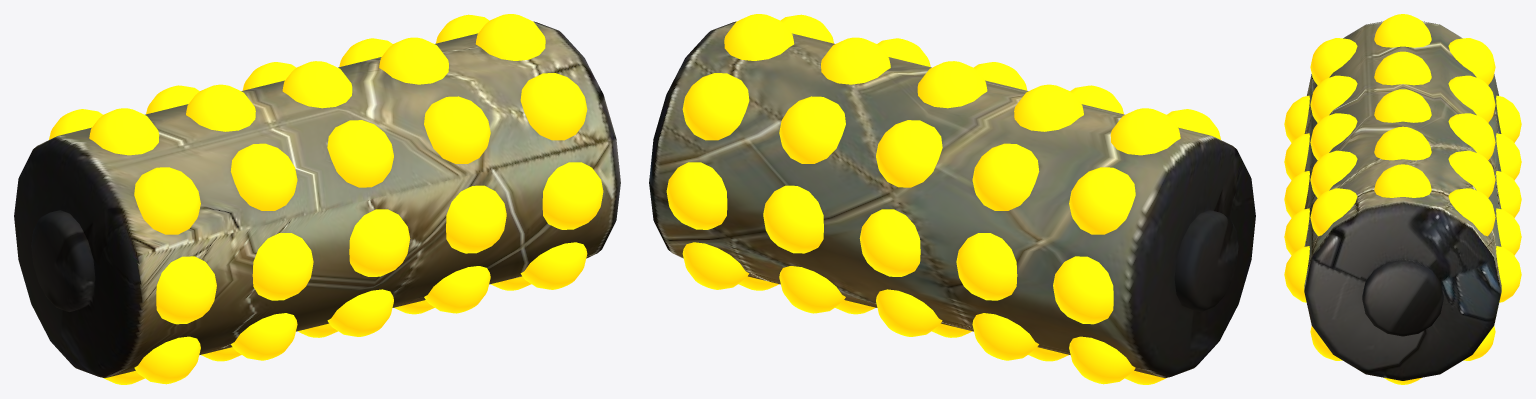
The model's file is floor.02.machine4.gltf.
3 renders of one model, left to right at view 1: azimuth 30°, elevation 25°; view 2: azimuth 150°, elevation 25°; view 3: azimuth 270°, elevation 25°, orthographic. The views are drawn at different scales.
Parts seen in each view (by area): view 1: floor.02.machine.05; view 2: floor.02.machine.05; view 3: floor.02.machine.05.
Boxes of the visible parts, x1,y1,x2,y2 form: floor.02.machine.05: (14, 14, 620, 384); floor.02.machine.05: (649, 14, 1255, 384); floor.02.machine.05: (1284, 14, 1521, 384).
Size of what is drawn, in the model's own units: 8.15 by 3.98 by 3.98.
2 materials, 1 textured.
